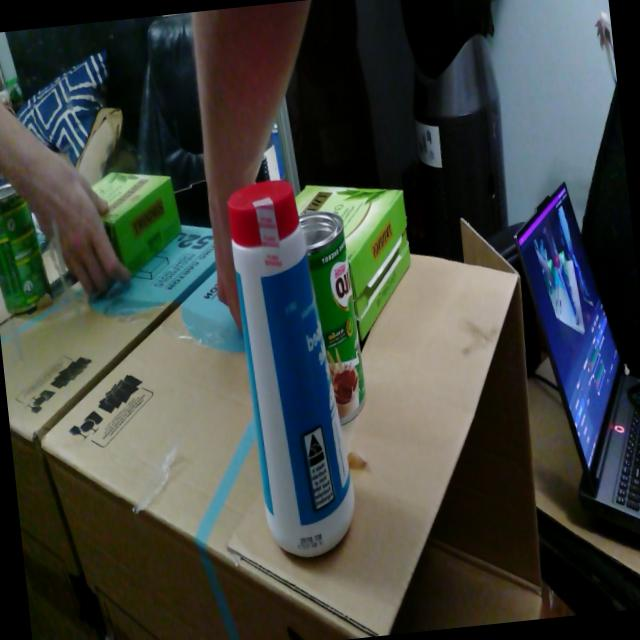nestle_milo_tin: (298, 211, 365, 425)
twinings_greentea_box: (295, 185, 410, 340)
woolworths_salt_bottle: (228, 180, 354, 556)
